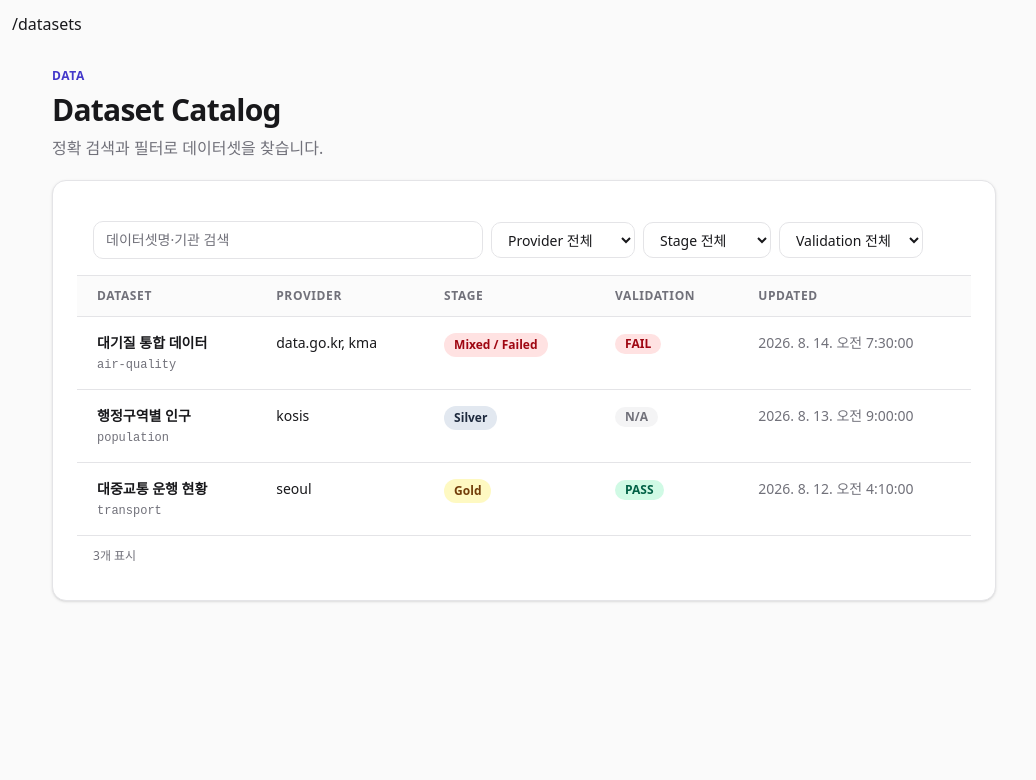
Dataset Catalog P0 (#253) › searches dataset/provider and preserves q in the URL
Expected: the text "대기질 통합 데이터" is shown, x1=97 y1=333 x2=207 y2=352
Type "population" into the field named "Dataset / Provider 검색" at [288, 240], box x1=93 y1=221 x2=483 y2=259
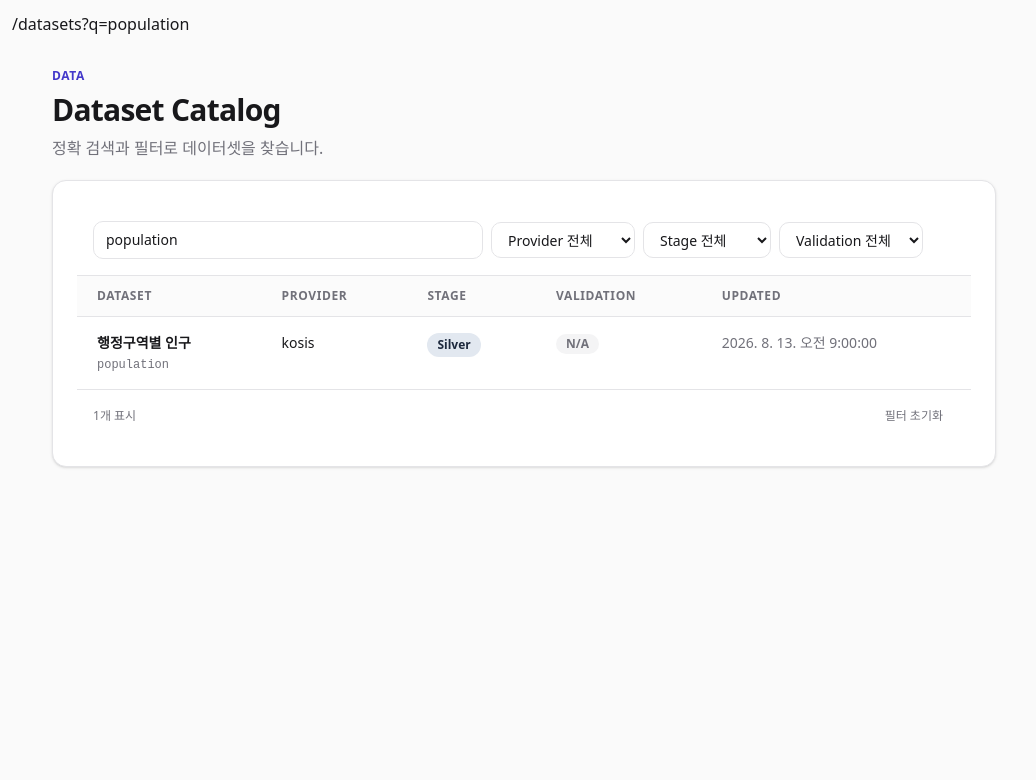
Expected: the text "행정구역별 인구" is shown, x1=97 y1=333 x2=191 y2=352
Result: the link "대기질 통합 데이터" is gone
Result: the text with test id "location" shows "?q=population" at x1=82 y1=13 x2=190 y2=35
